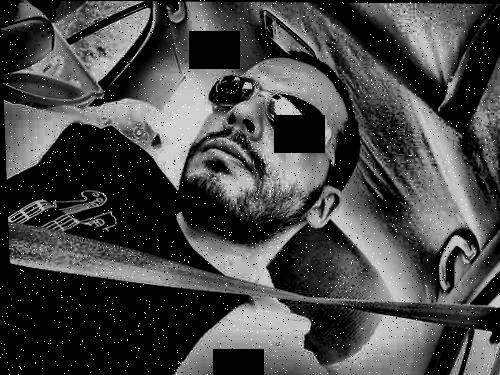seatbelt: (7, 212, 492, 340)
